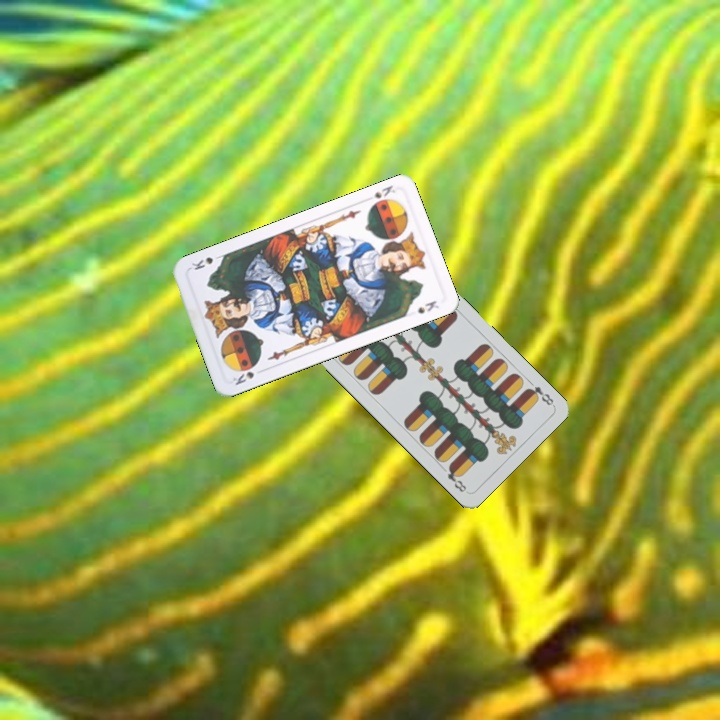E8: (522, 382, 556, 408)
SK: (228, 367, 257, 388), (370, 181, 397, 201)
